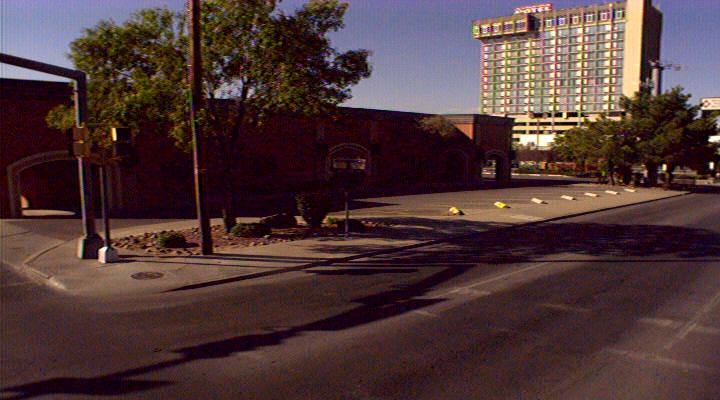Ramp: (48, 253, 187, 304)
